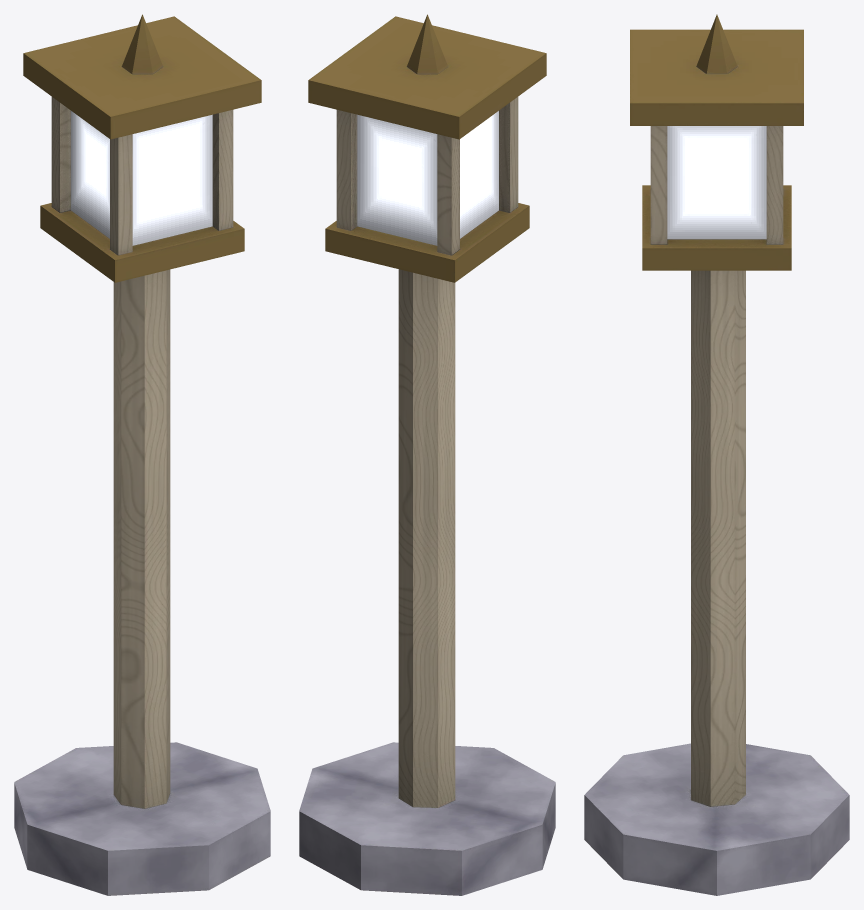
File: k_ten_hoshi_tourou.glb
3 renders of one model, left to right at view 1: azimuth 30°, elevation 25°; view 2: azimuth 150°, elevation 25°; view 3: azimuth 270°, elevation 25°, orthographic.
Visible parts, largest first — view 1: k_ten_hoshi_tourou; view 2: k_ten_hoshi_tourou; view 3: k_ten_hoshi_tourou.
Boxes of the visible parts, x1,y1,x2,y2 form: k_ten_hoshi_tourou: [14, 14, 270, 895]; k_ten_hoshi_tourou: [299, 14, 555, 895]; k_ten_hoshi_tourou: [584, 14, 849, 895].
Size of the model in its own units: 0.64 by 2.2 by 0.64.
Materials: 2 (1 with a texture image).
